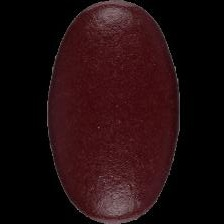43353-688: (0, 0, 224, 224)
